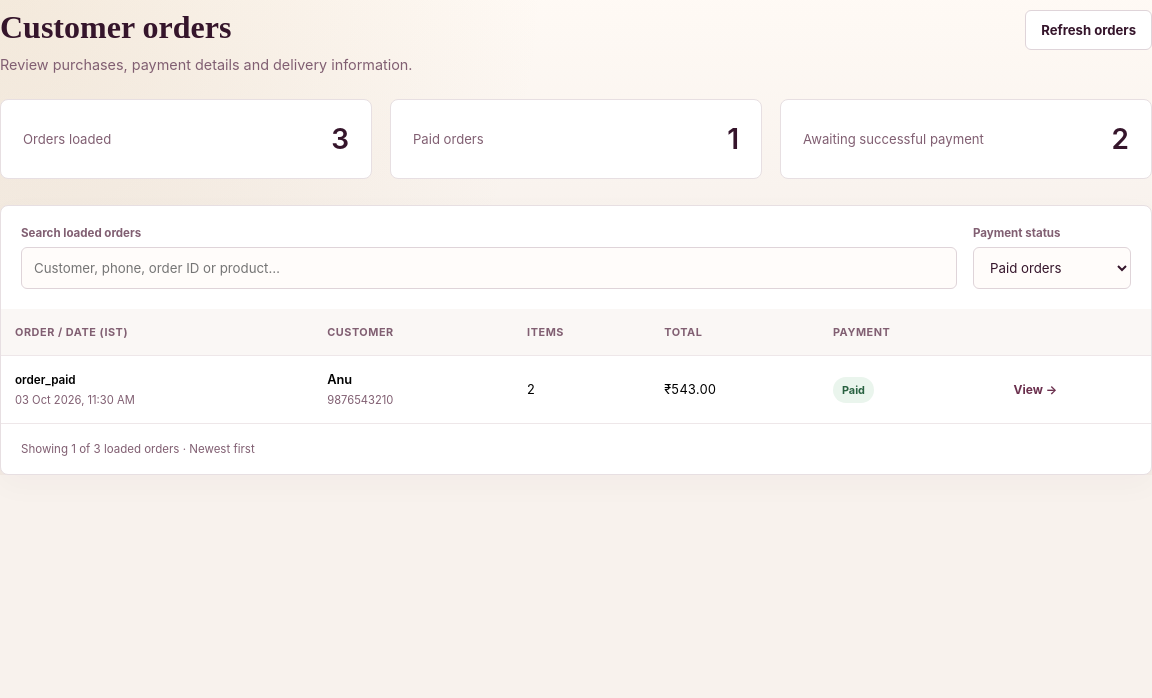
Test: AdminOrdersComponent › defaults to paid orders and displays paise as rupees, with original item prices in details
The width and height of the screenshot is (1152, 698).
expect the table shows "order_paid": met, box [15,372,76,386]
expect the table shows "543.00": met, box [664,382,716,397]
Click the button "View →" at (1035, 390), box [1014,374,1057,405]
(page scrolled)
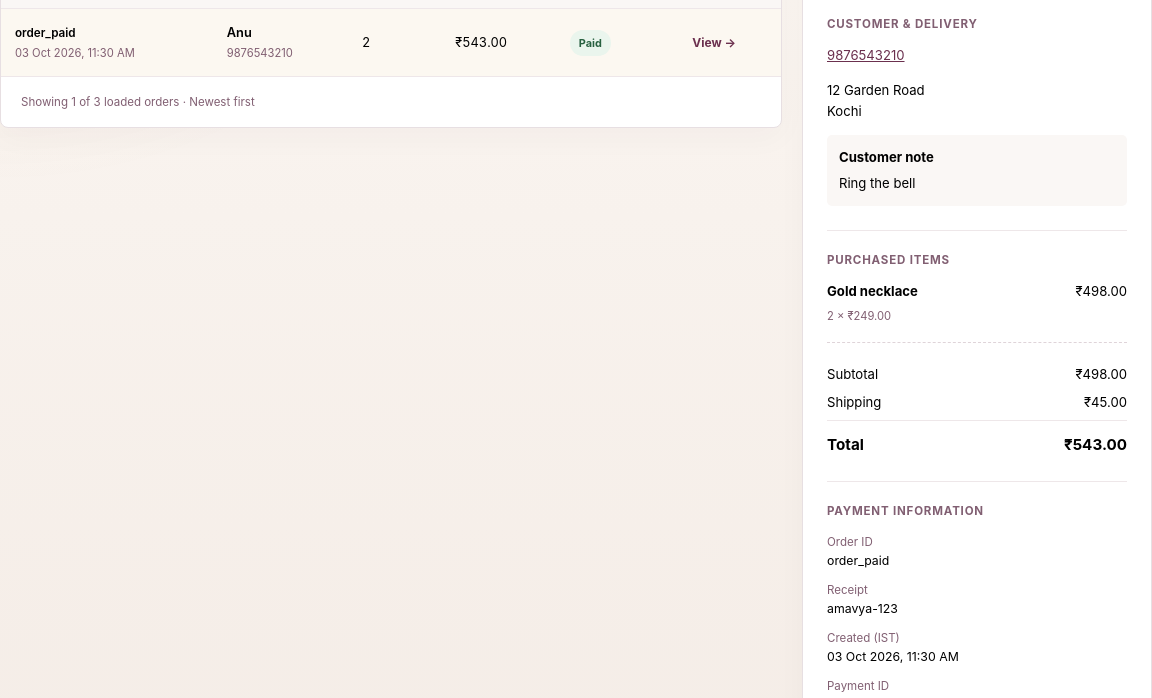
expect the element named "Order details" shows "12 Garden Road": met, box [827,82,925,118]
expect the element named "Order details" shows "Gold necklace": met, box [827,283,918,299]
expect the element named "Order details" shows "498.00": met, box [1076,283,1127,299]
